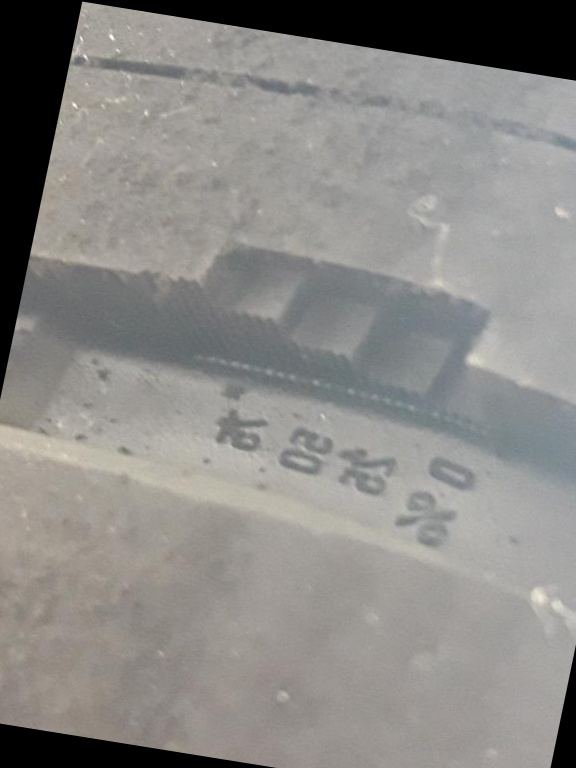temoin:95: (104, 209, 540, 464)
